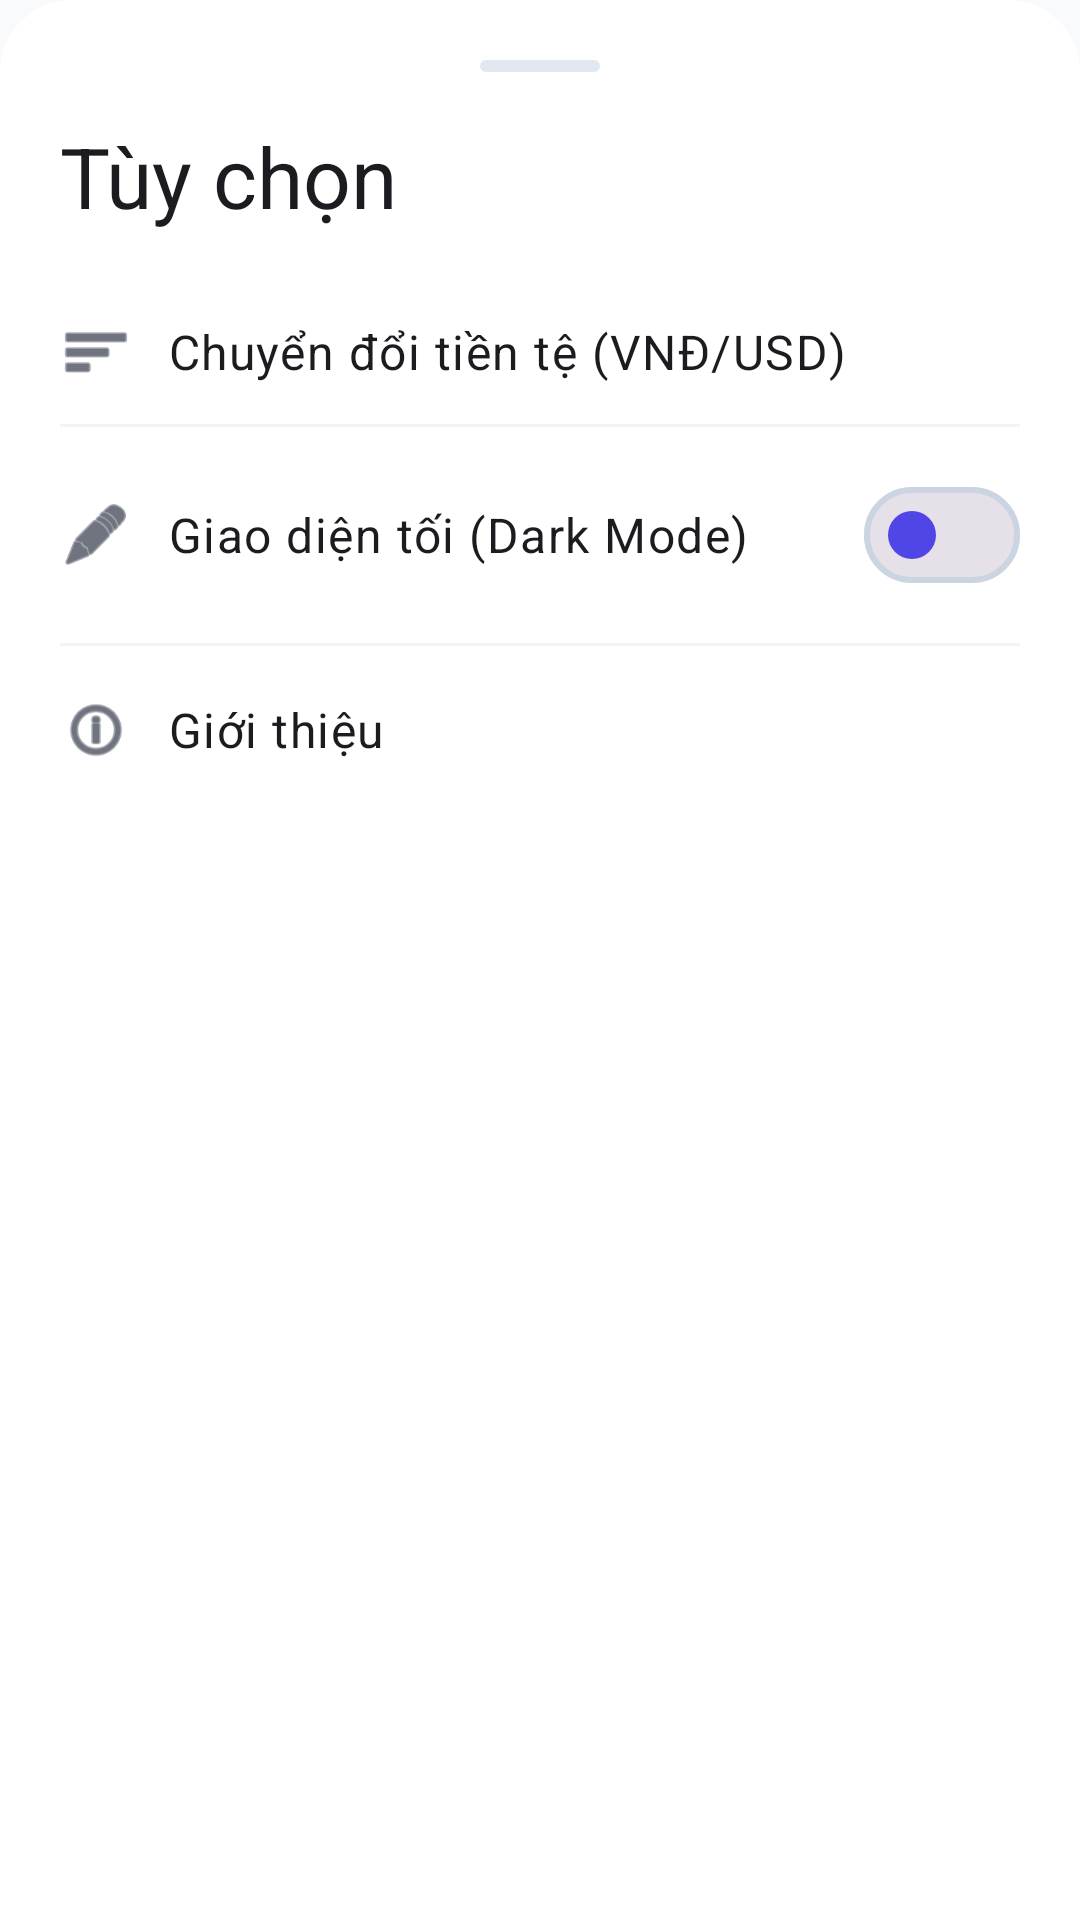

Where to tap for icons on this 1080 × 1920 app screen, as point (x, y):
edit: point (95, 534)
info details: point (96, 730)
sort by size: point (96, 352)
